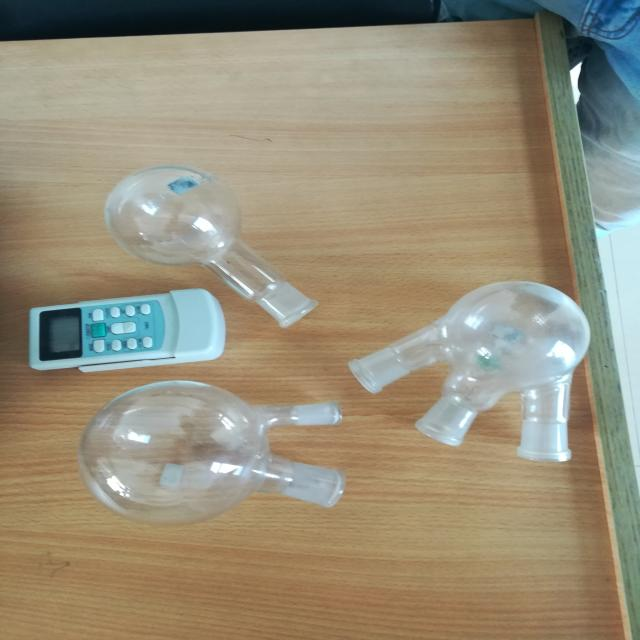Round_Bottom_Flask_Borosilicate_Glass_1_Neck: (91, 147, 325, 341)
Round_Bottom_Flask_Borosilicate_Glass_2_Neck: (41, 375, 377, 538)
Round_Bottom_Flask_Borosilicate_Glass_3_Neck: (348, 234, 634, 473)
